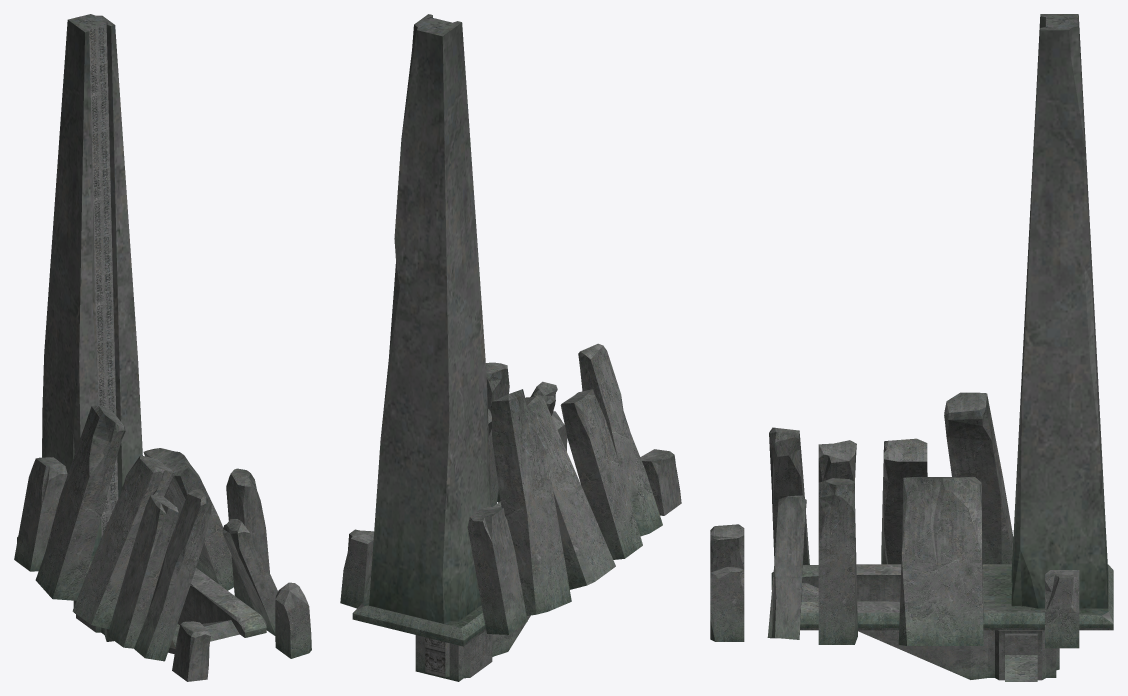
File: thm_yavn_jedi_enclave_dark_r0_exterior_mesh_l0.fbx
The picture shows the model from 3 angles, left to right: view 1: azimuth 30°, elevation 25°; view 2: azimuth 150°, elevation 25°; view 3: azimuth 270°, elevation 25°; orthographic projection. The views are drawn at different scales.
Visible parts, largest first — view 1: mesh_node; view 2: mesh_node; view 3: mesh_node.
Part boxes in pixels (bbox=[...]): mesh_node: bbox=[14, 14, 311, 681]; mesh_node: bbox=[340, 14, 681, 681]; mesh_node: bbox=[710, 14, 1113, 681].
Size of the model in its own units: 12.25 by 41.69 by 23.63.
